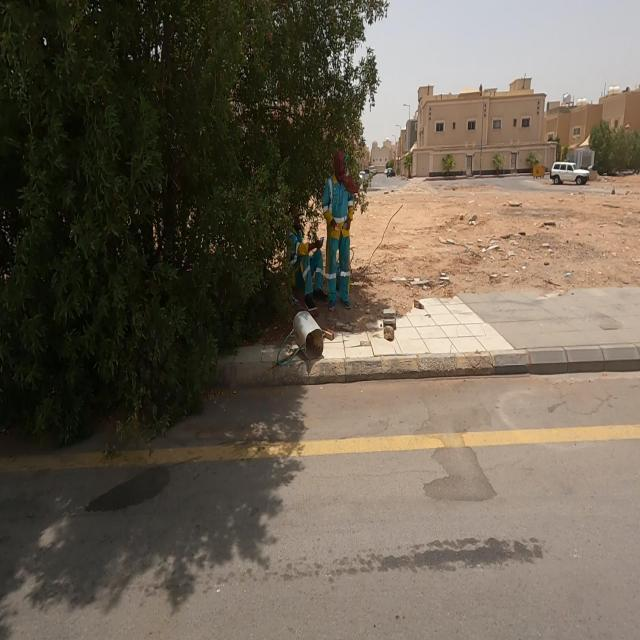debris: (252, 266, 354, 404)
